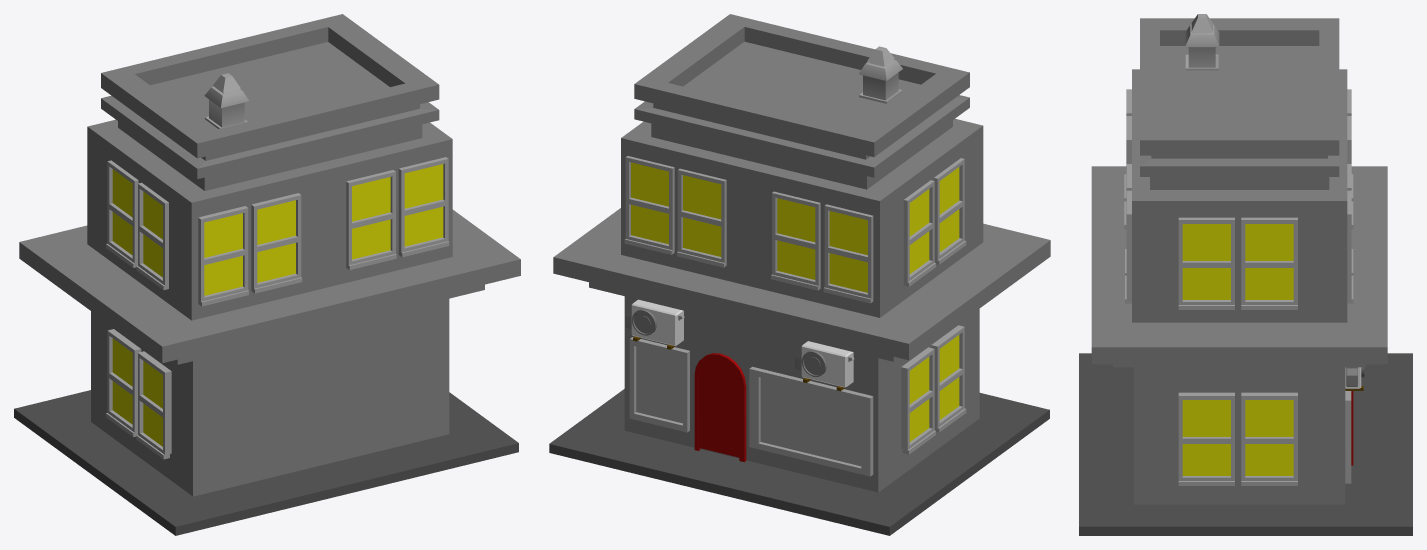
File: little_house.fbx
3 renders of one model, left to right at view 1: azimuth 30°, elevation 25°; view 2: azimuth 150°, elevation 25°; view 3: azimuth 270°, elevation 25°, orthographic. The views are drawn at different scales.
Parts seen in each view (by area): view 1: polySurface67; view 2: polySurface67; view 3: polySurface67.
Boxes of the visible parts, box(x1,y1,x2,y2) form: polySurface67: box(14, 14, 520, 535); polySurface67: box(549, 14, 1050, 535); polySurface67: box(1079, 14, 1412, 535).
Bounding box in the file's own units: 14.24 × 14.8 × 11.11.
